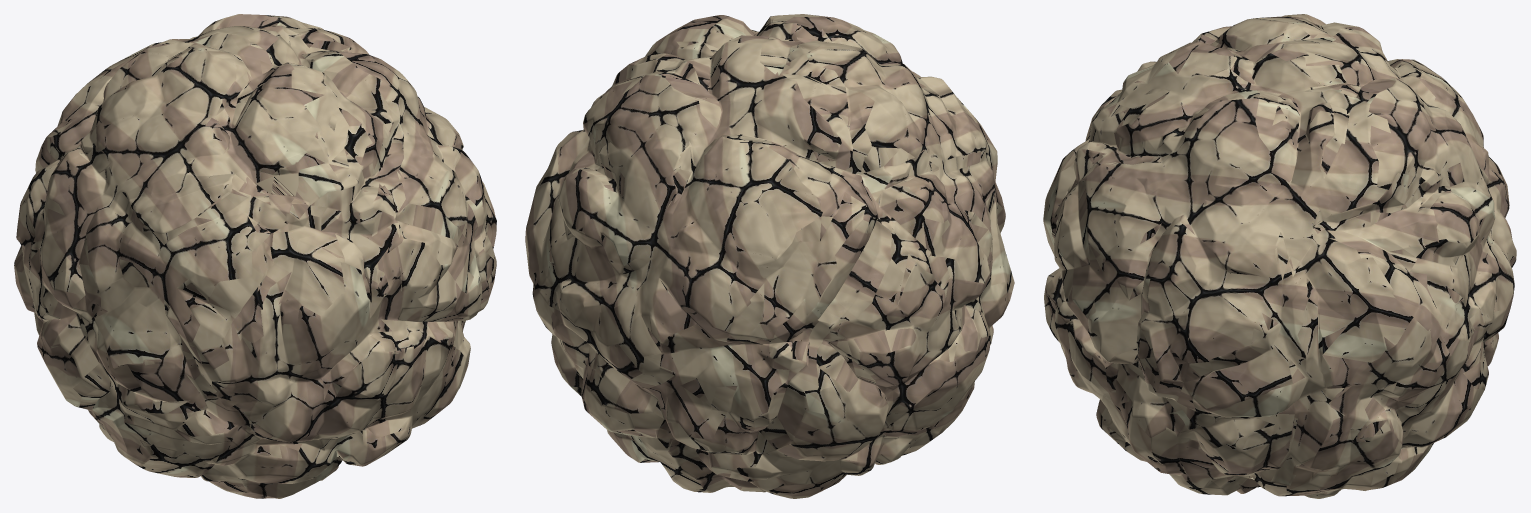
The model's file is RockBall.fbx.
3 views of the same model, side by side, from view 1: azimuth 30°, elevation 25°; view 2: azimuth 150°, elevation 25°; view 3: azimuth 270°, elevation 25° (orthographic). The views are drawn at different scales.
Parts seen in each view (by area): view 1: Cube; view 2: Cube; view 3: Cube.
Part boxes in pixels (x1,y1,x2,y2): Cube: [14, 14, 496, 498]; Cube: [525, 14, 1014, 498]; Cube: [1043, 14, 1516, 498].
Size of the model in its own units: 1243 by 1208 by 1218.
